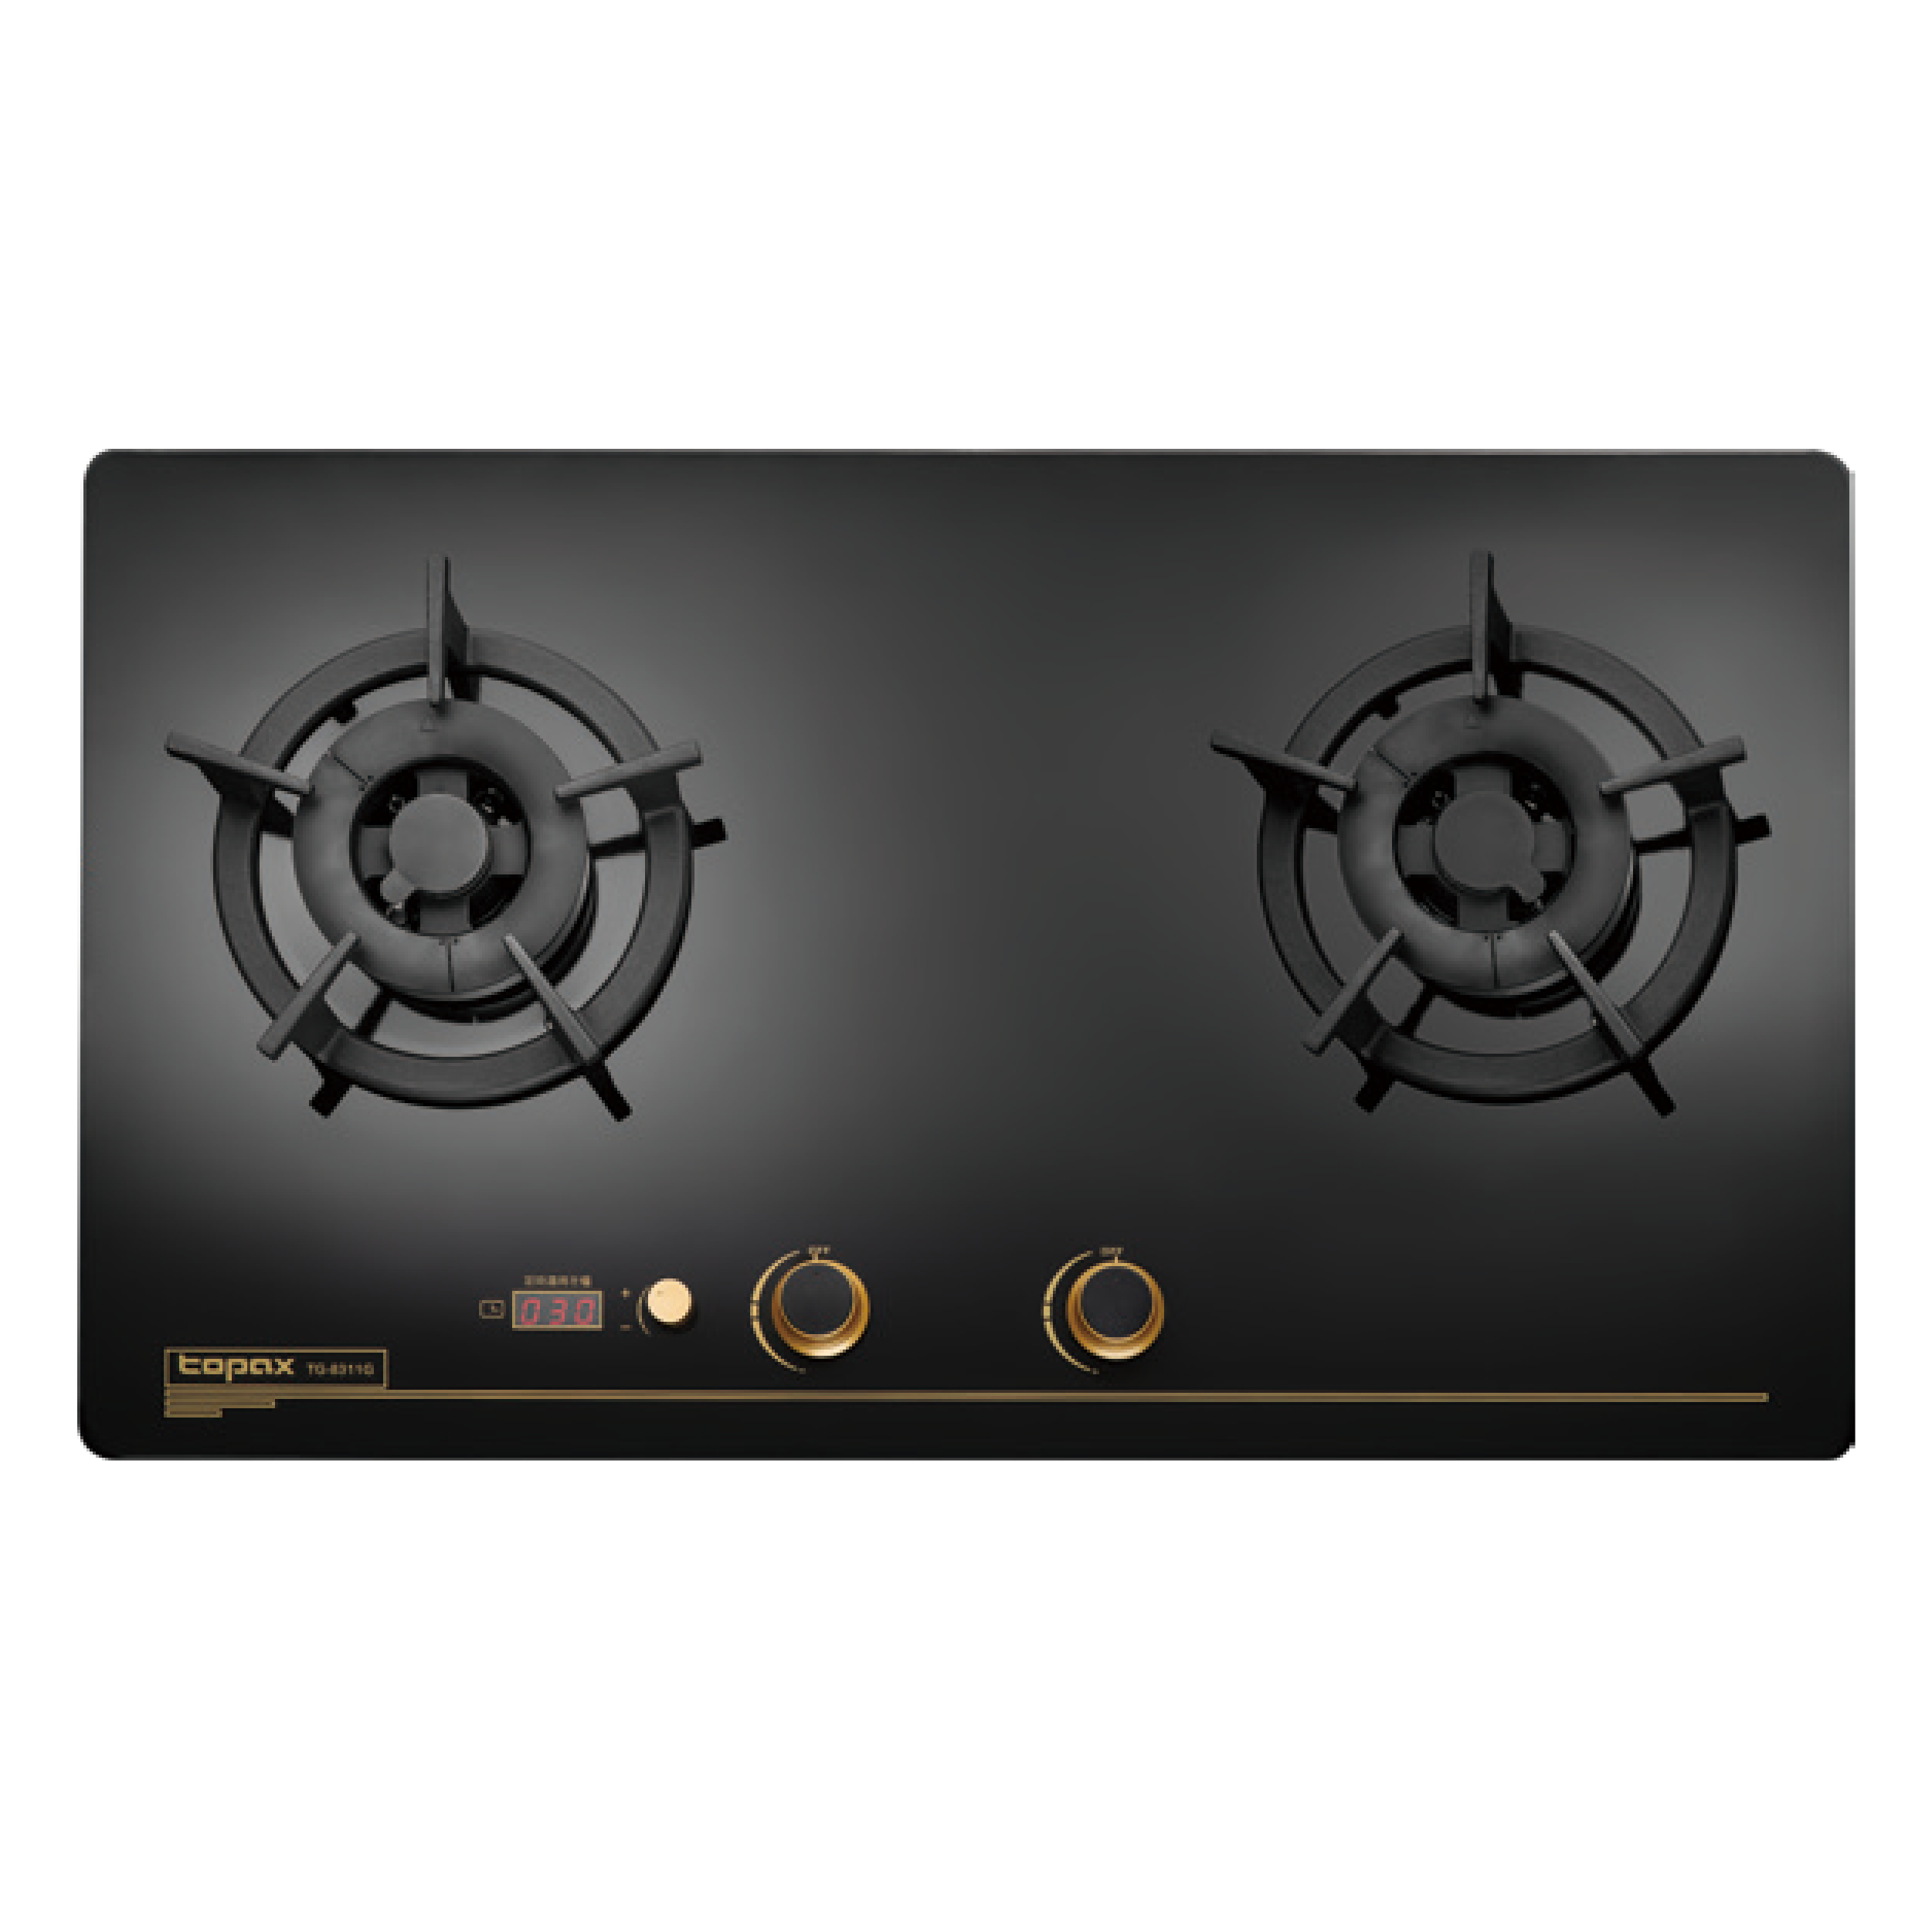gasoven: (88, 455, 1854, 1458)
